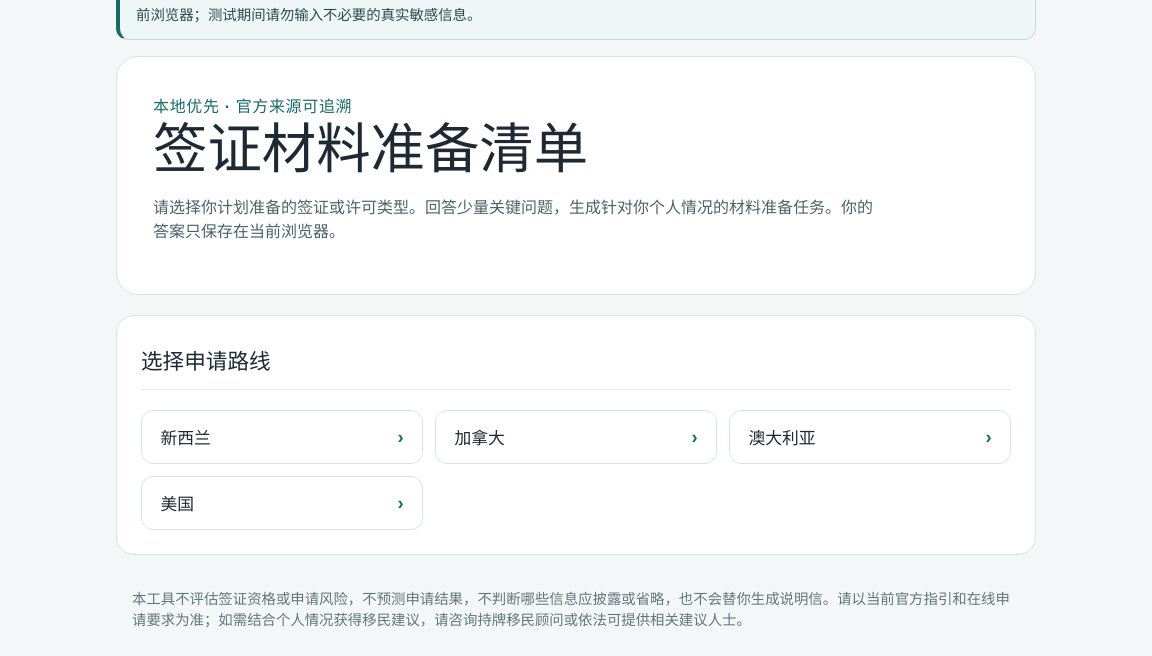
Test: App persistence hardening › Candidate 5 Slice 5C1 — Applicant Selection Flow and Bootstrap Isolation › 7. invalid or future Workspace read results remain fail closed for new application creation
The width and height of the screenshot is (1152, 656).
What coordinates should you click on to do the following:
click the button "新西兰 ›"
I would click on:
 (186, 438)
Its box is [141,410,423,464].
(page scrolled)
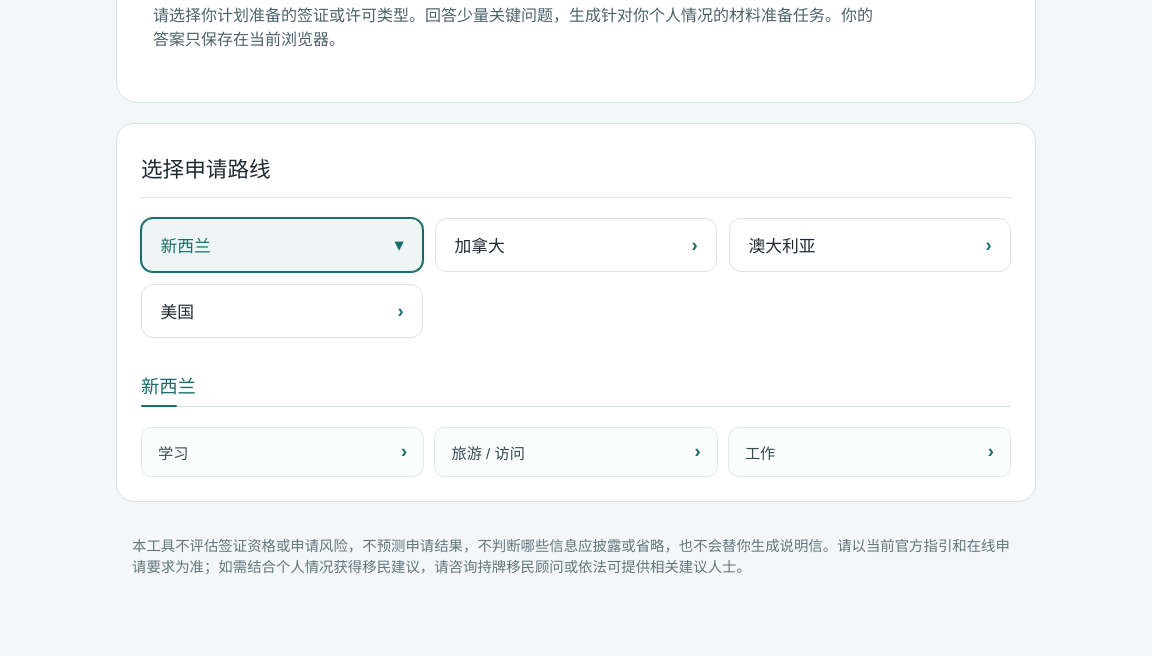
What coordinates should you click on to do the following:
click the button "学习 ›"
I would click on:
 (173, 453)
Its box is [141,426,424,476].
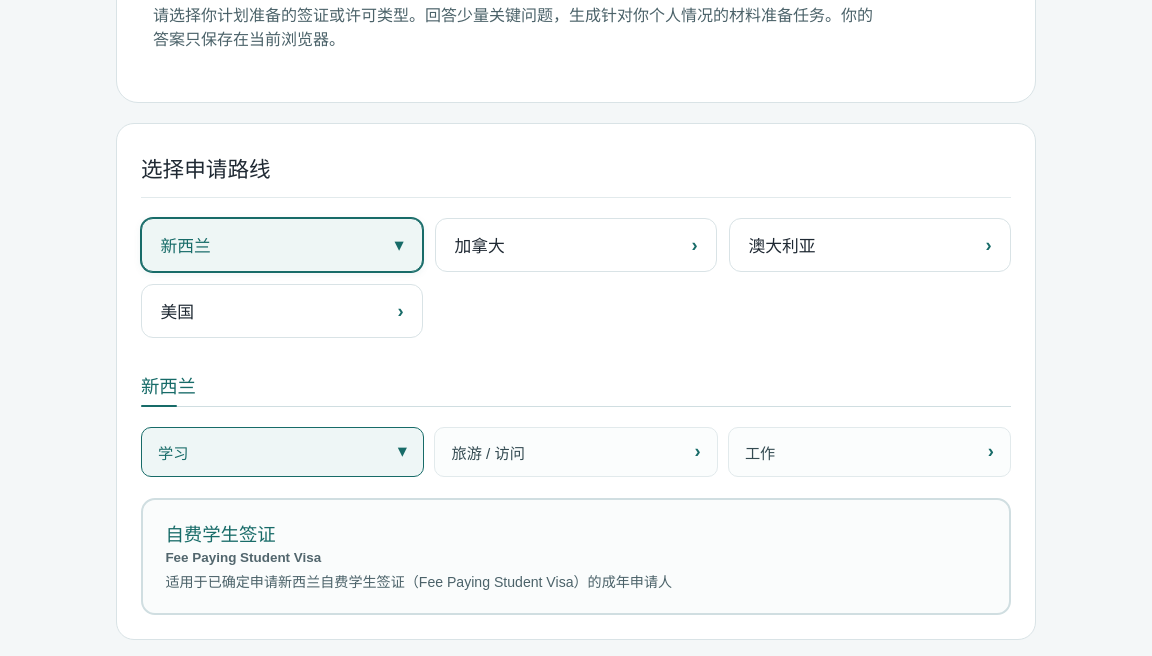
What coordinates should you click on to do the following:
click the button with aria-label "新西兰 · 学习 · 自费学生签证"
I would click on:
 (221, 535)
Its box is [141,498,1011,615].
(page scrolled)
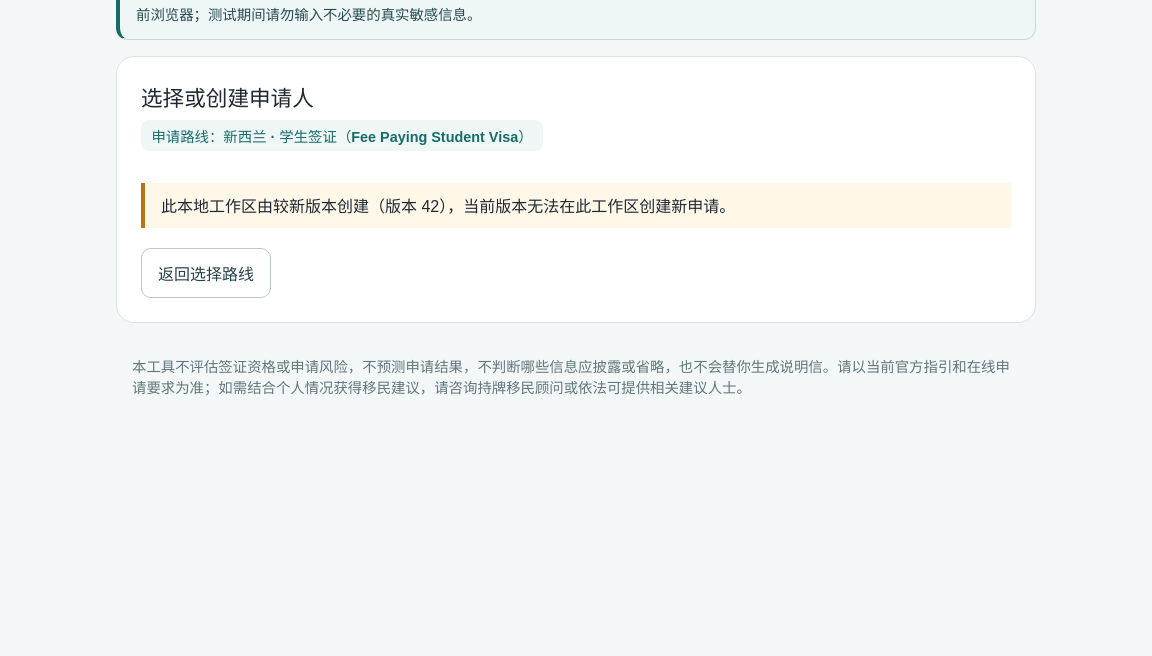
Check: the heading "选择或创建申请人" is shown, box [141,86,314,111]
Check: the text "此本地工作区由较新版本创建（版本 42），当前版本无法在此工作区创建新申请。" is shown, box [141,183,1011,228]
